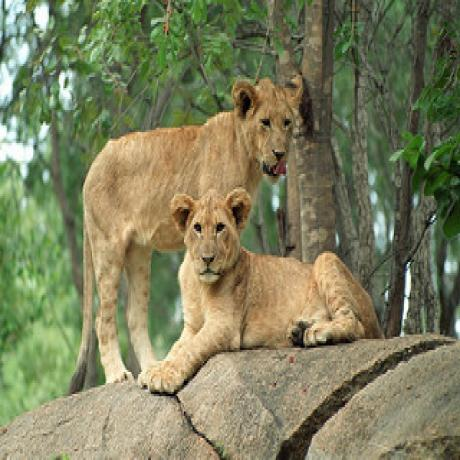Lion: (77, 71, 304, 385), (154, 186, 380, 382)
